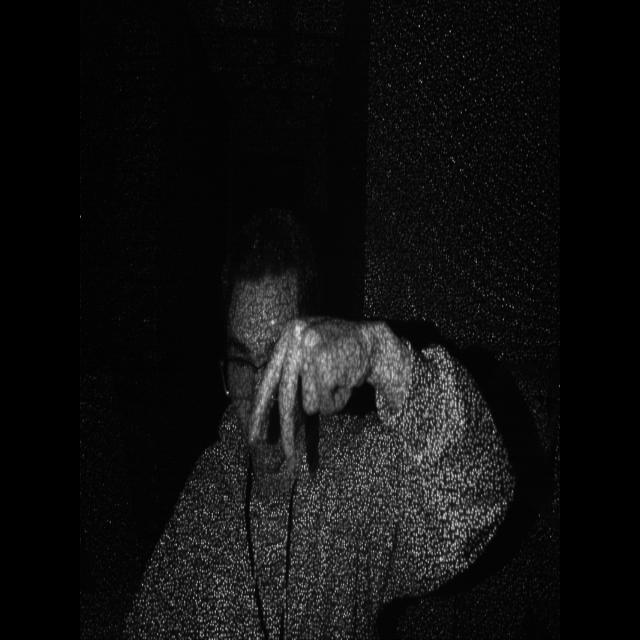P: (241, 297, 379, 469)
